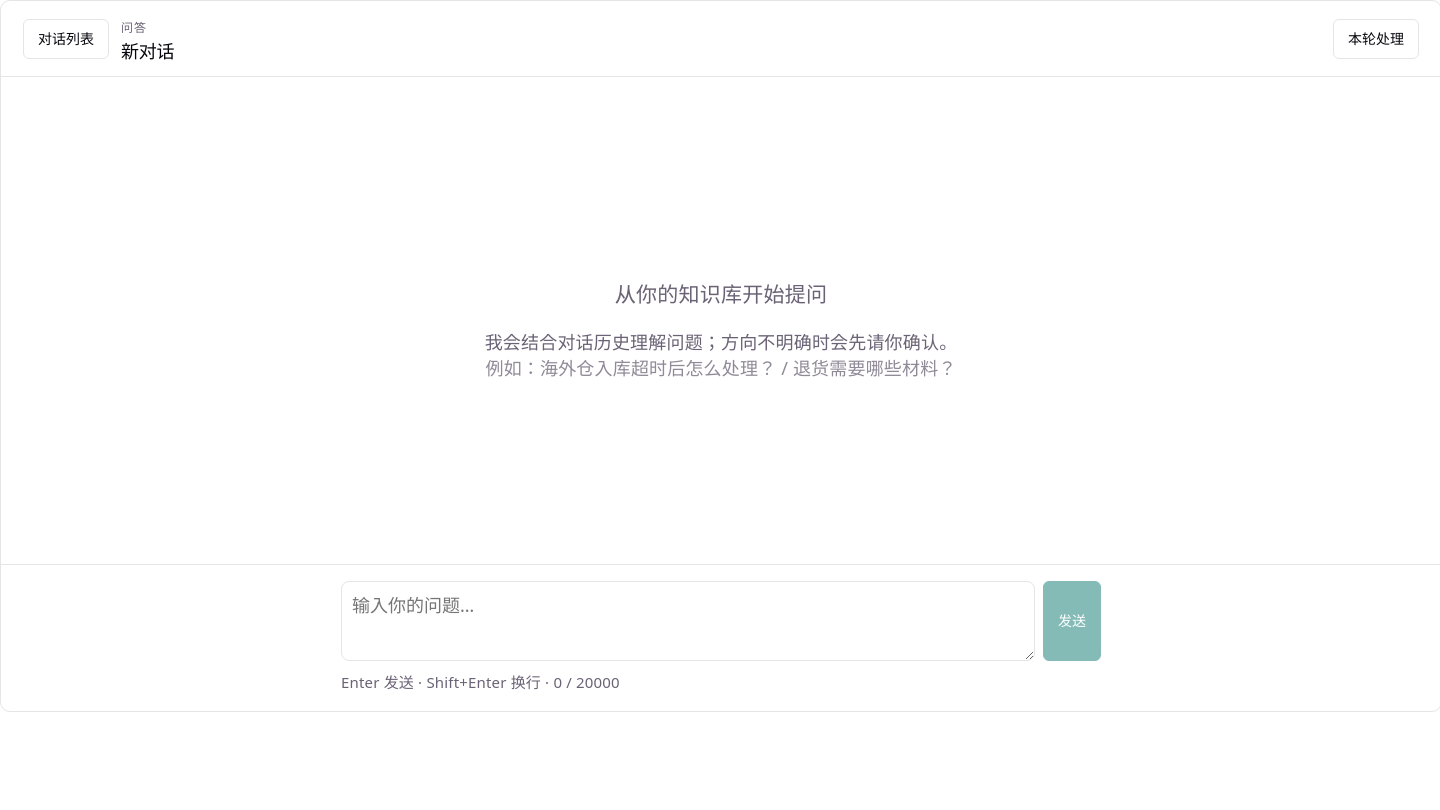
Scenario: 问答 C — 3C 流式生成 › 排队中也可立即停止且不伪造答案
The image size is (1440, 810).
Check: the button "对话列表" is shown, box [23,19,109,59]
Step 1. Type "排队问题" into the text box labelled "输入你的问题" → (688, 621), box [341,581,1035,661]
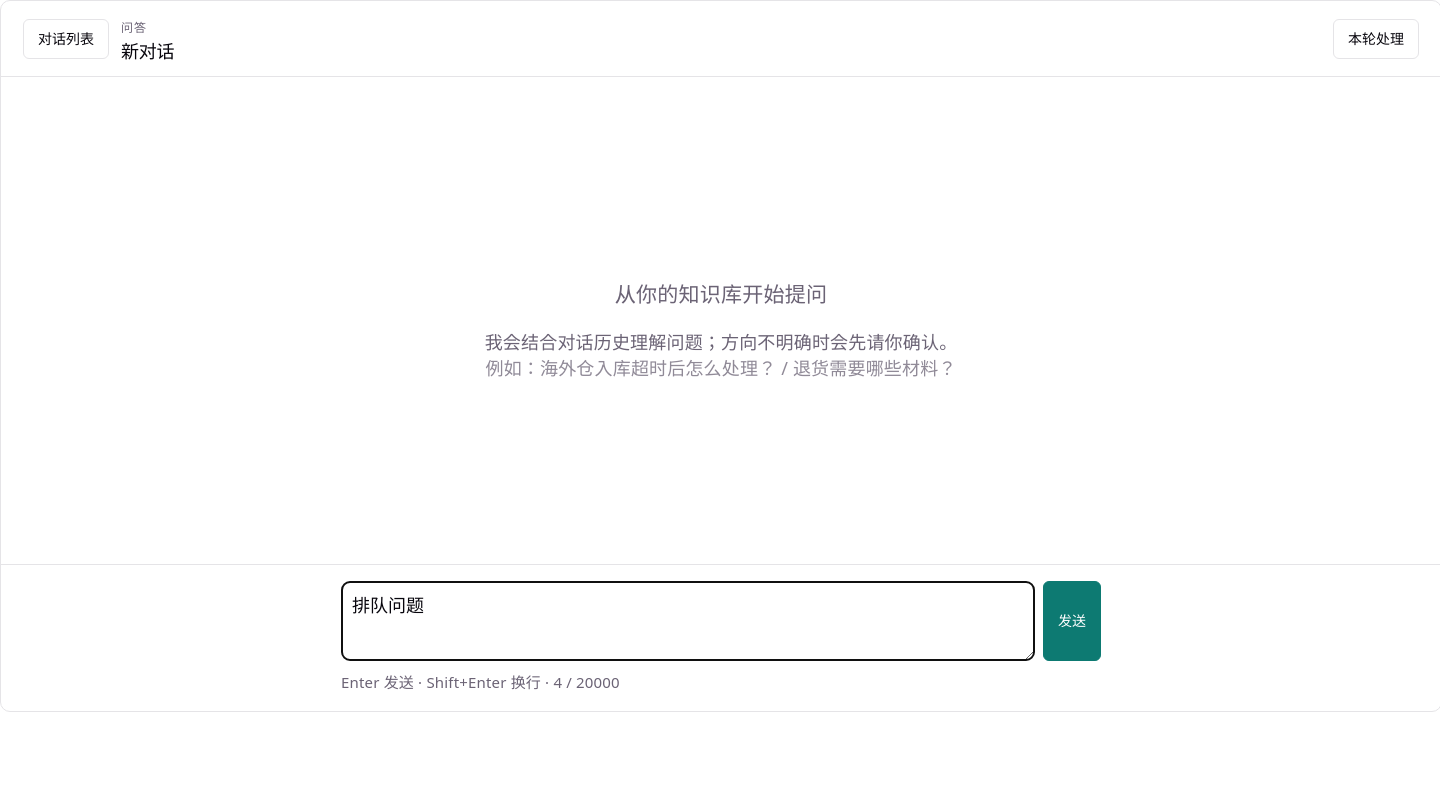
Step 2. Click the button "发送" → (1072, 621), box [1043,581,1101,661]
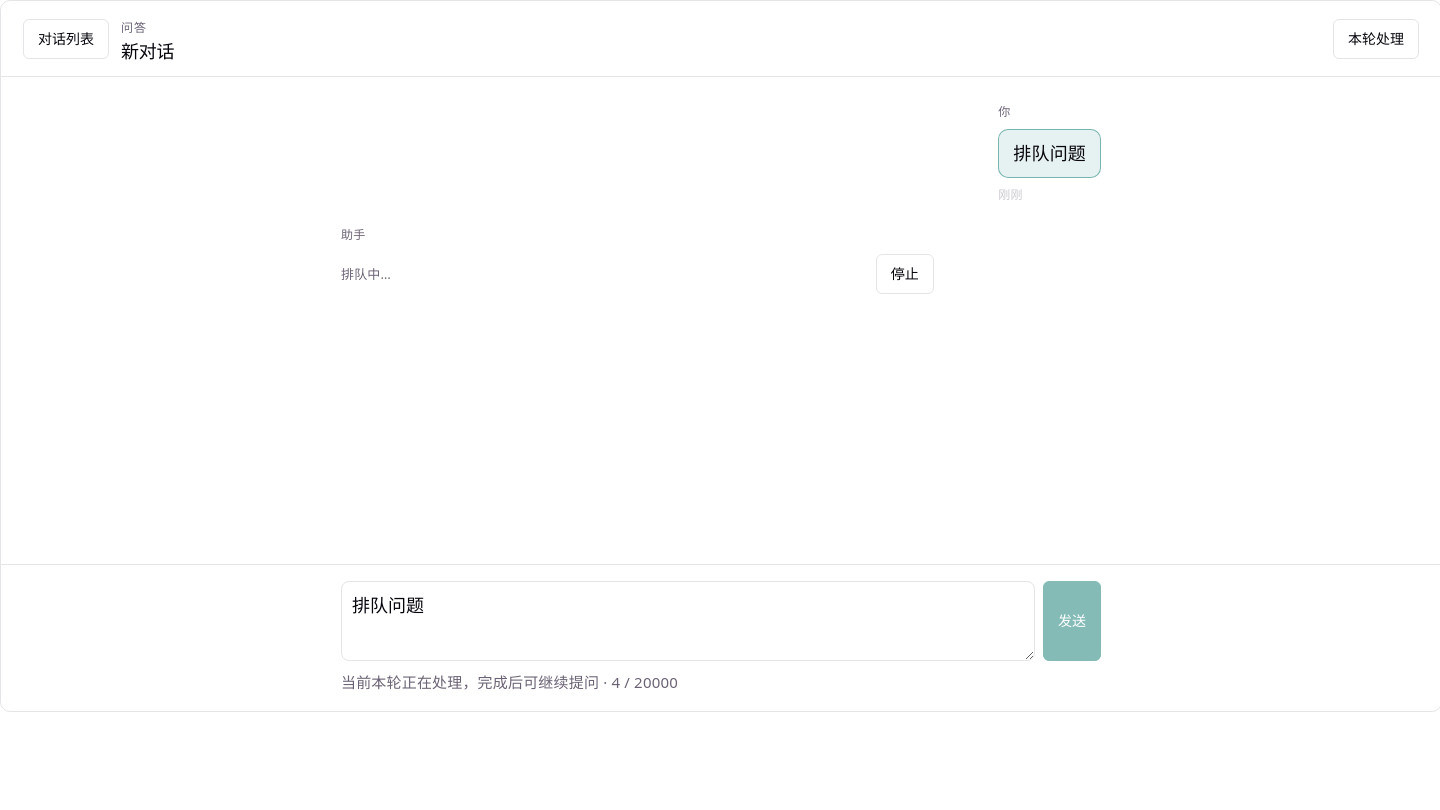
Check: the text "排队中…" is shown, box [341,261,391,287]
Step 3. Click the button with aria-label "停止生成" → (905, 274), box [876,254,934,294]
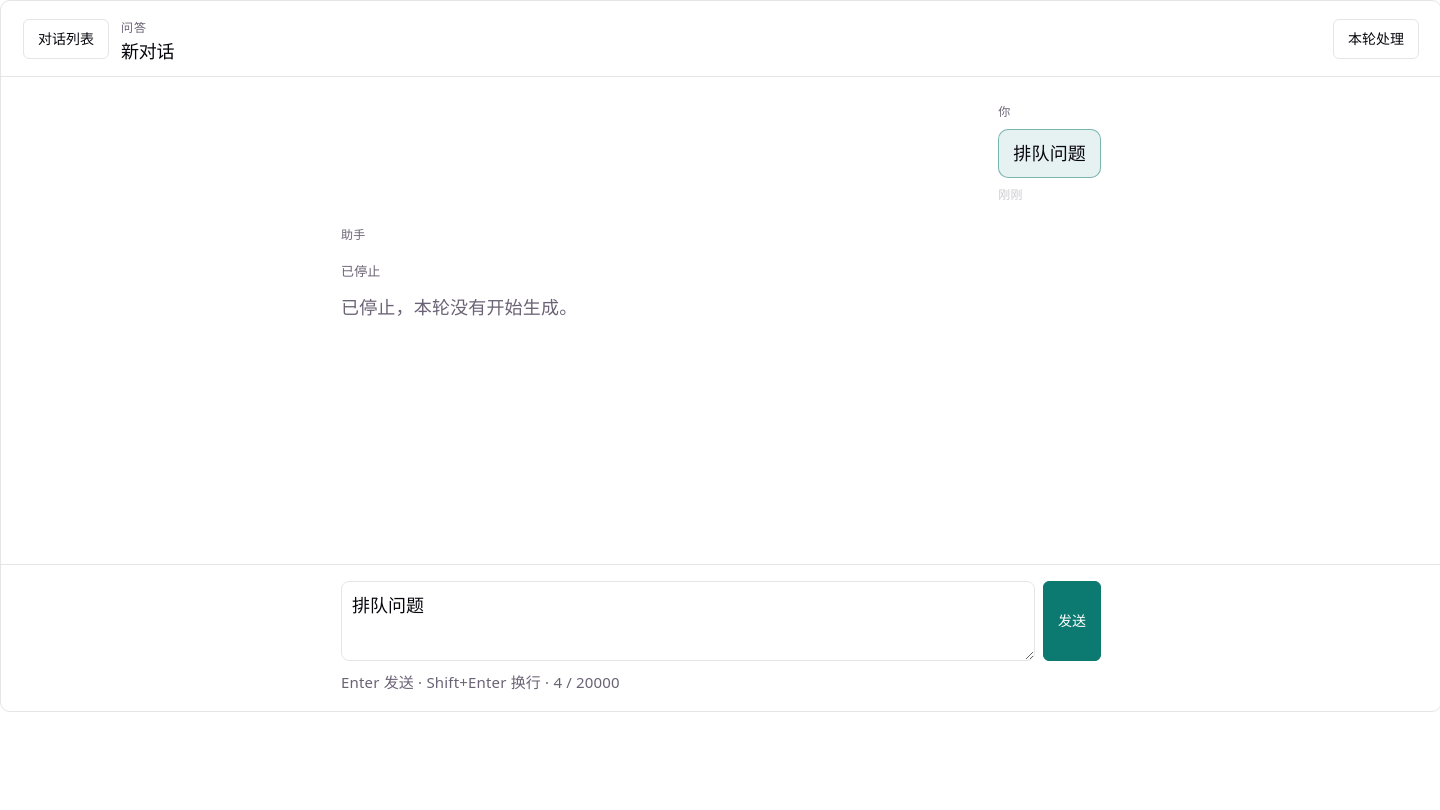
Check: the text "已停止" is shown, box [341,258,380,284]
Check: the text "已停止，本轮没有开始生成。" is shown, box [341,295,577,319]
